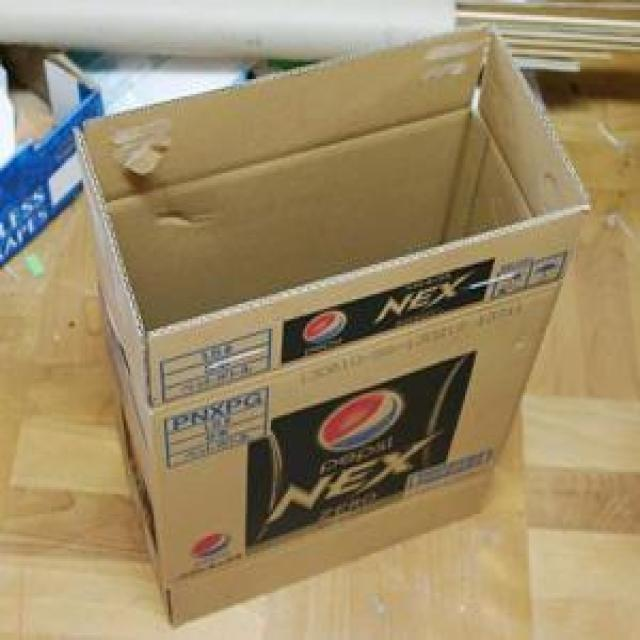cardboard: (71, 22, 590, 624)
